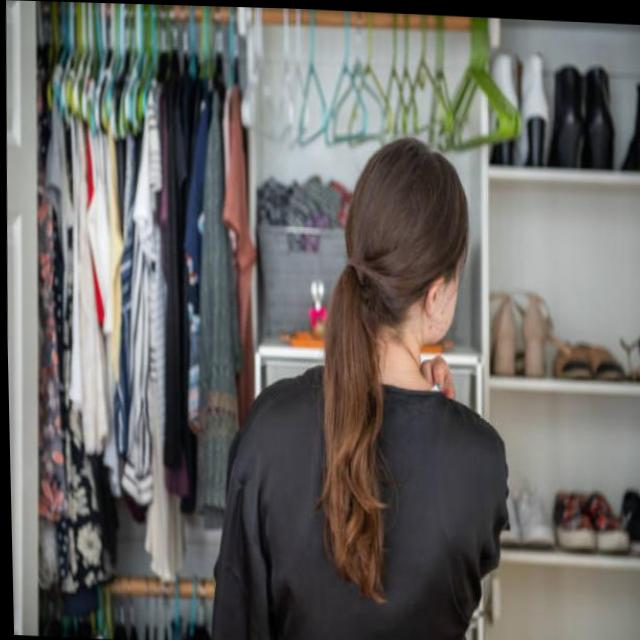no helmet: (312, 119, 480, 431)
